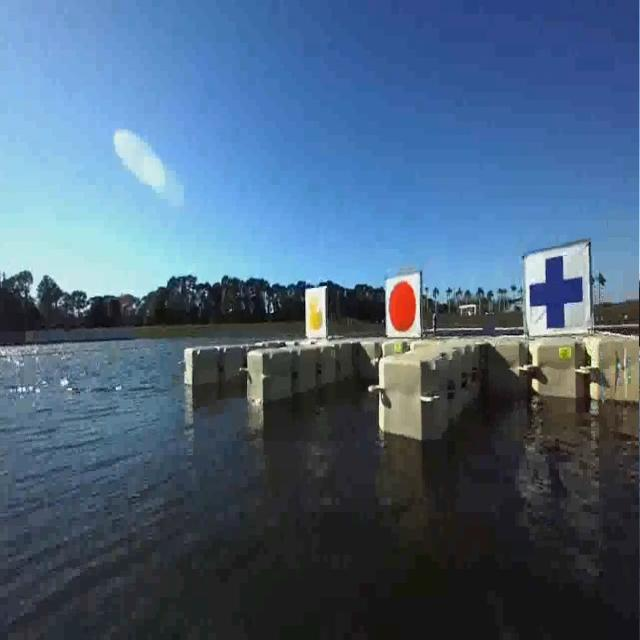blue-cross: (518, 241, 595, 331)
red-dot: (381, 272, 422, 334)
yellow-duck: (304, 288, 326, 336)
